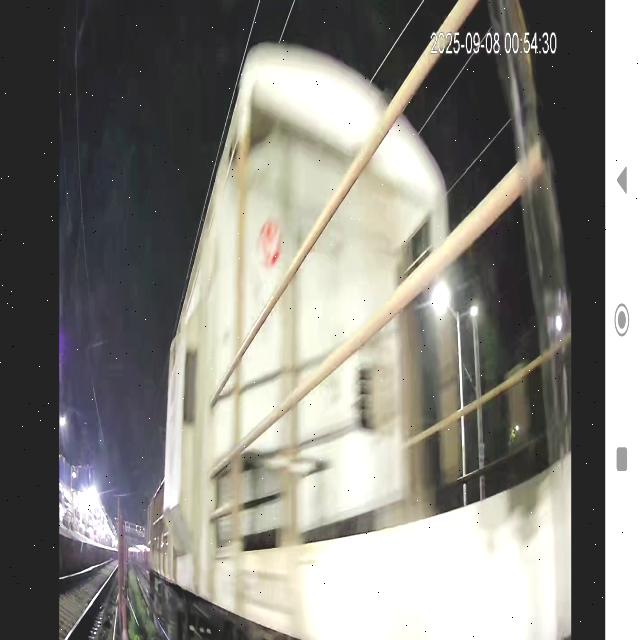brakevan: (130, 0, 581, 640)
